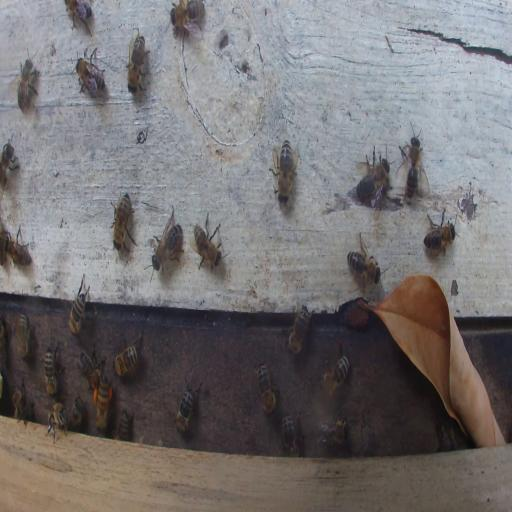bee: (395, 121, 429, 200), (150, 208, 184, 275), (353, 148, 391, 205), (345, 234, 382, 286), (192, 214, 223, 274), (319, 338, 350, 398), (423, 210, 456, 258), (110, 191, 135, 254), (271, 140, 296, 203), (74, 48, 106, 96), (16, 48, 39, 114), (68, 272, 91, 336), (174, 381, 202, 433), (126, 28, 148, 94), (113, 331, 141, 380), (286, 304, 313, 354), (92, 373, 114, 433), (170, 0, 204, 35), (256, 362, 278, 416), (4, 229, 32, 268), (317, 414, 350, 446), (78, 350, 104, 388), (64, 0, 93, 32), (46, 401, 68, 443), (282, 412, 300, 458), (0, 139, 18, 183), (44, 345, 59, 397), (15, 313, 30, 361), (10, 383, 29, 420), (435, 421, 457, 452), (67, 396, 82, 432), (116, 408, 132, 440)
